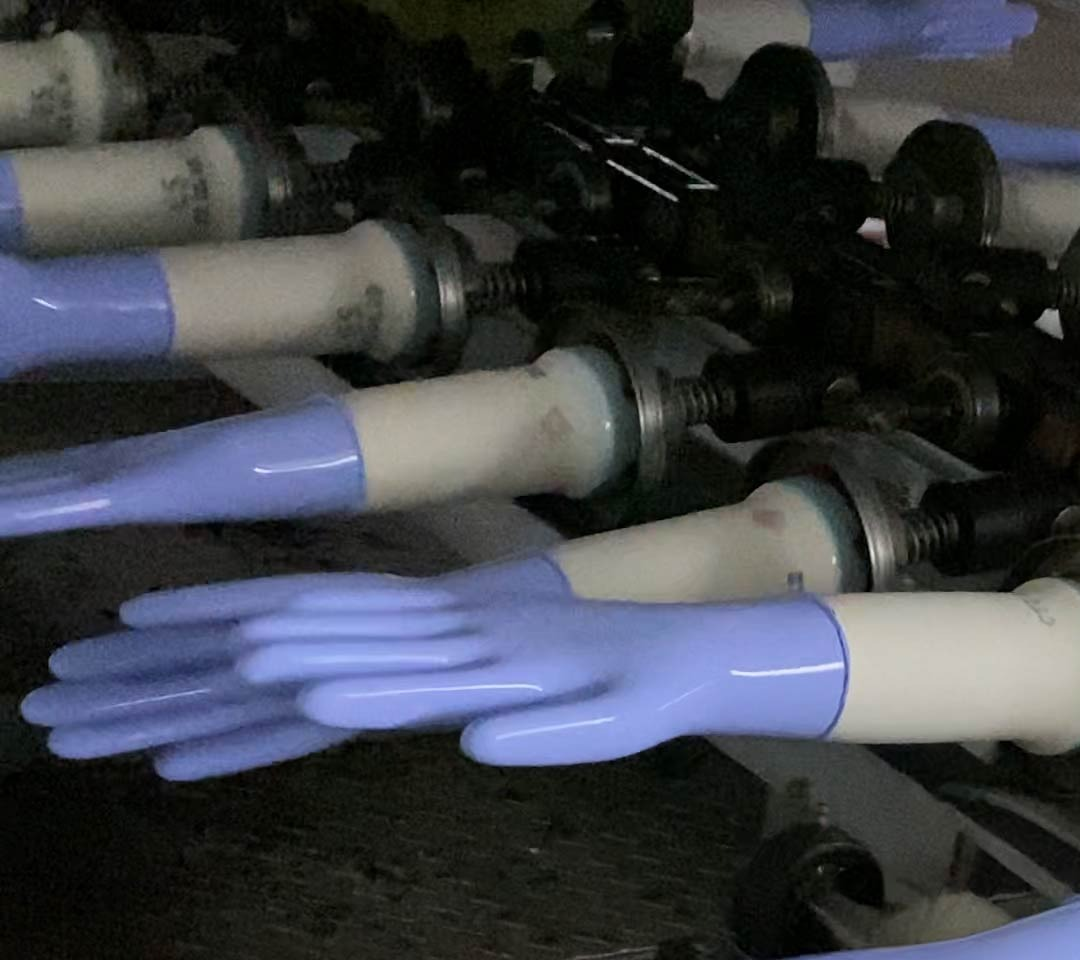glove: (21, 560, 572, 783), (231, 580, 856, 769), (1, 397, 356, 532)
